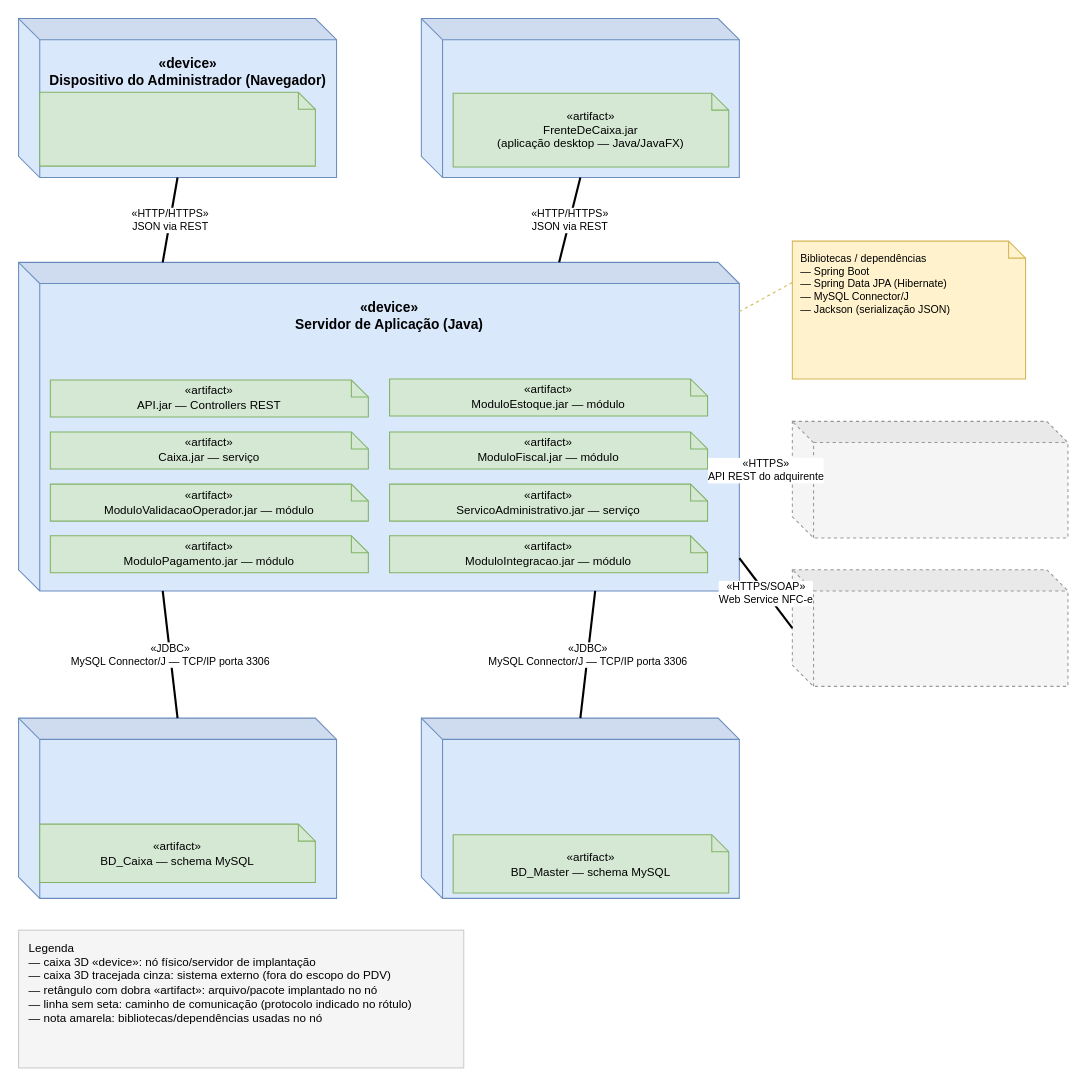
Some shapes in this 1087 by 1087 pixel diagram are drawn without their labels. The box of each missing label's shape, as (x1, y1, x2, y2) in pixels:
«artifact» WebApp (HTML / CSS / JS — Chrome, Firefox, etc.): (39, 91, 315, 166)
«device» Servidor de Banco de Dados — Administrativo/Master — MySQL —: (420, 717, 739, 898)
«device» Servidor de Banco de Dados — Caixa — MySQL —: (17, 717, 337, 898)
«device» Terminal de Caixa (Frente de Loja): (420, 17, 739, 178)
«device» «sistema externo» Adquirente de Pagamento (TEF): (791, 420, 1068, 538)
«device» «sistema externo» SEFAZ (Autorizador Fiscal): (791, 569, 1068, 686)
